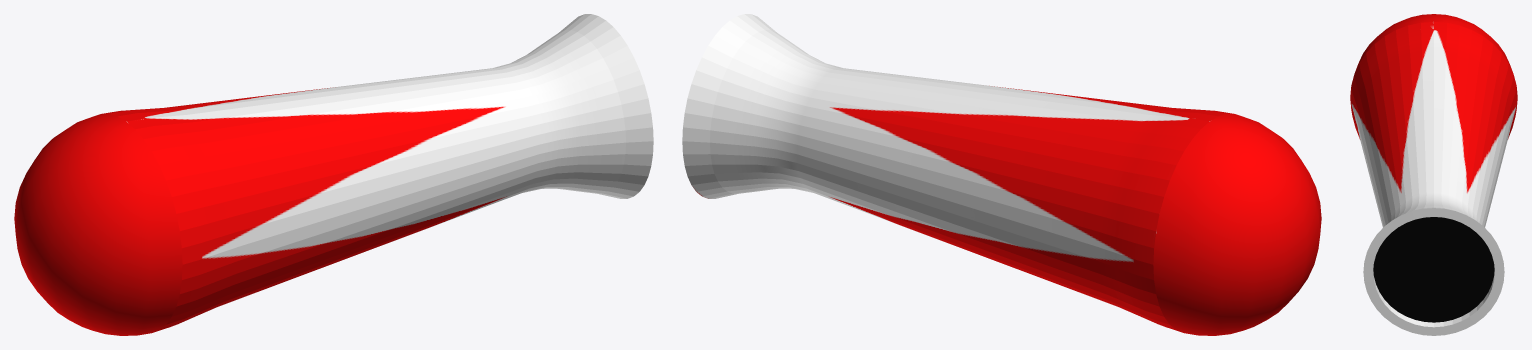
File: Cannon.fbx
The picture shows the model from 3 angles, left to right: view 1: azimuth 30°, elevation 25°; view 2: azimuth 150°, elevation 25°; view 3: azimuth 270°, elevation 25°; orthographic projection. The views are drawn at different scales.
Visible parts, largest first — view 1: pSphere1; view 2: pSphere1; view 3: pSphere1.
Boxes of the visible parts, x1=… form: pSphere1: x1=14, y1=14, x2=653, y2=335; pSphere1: x1=682, y1=14, x2=1321, y2=335; pSphere1: x1=1350, y1=14, x2=1517, y2=335.
Size of the model in its own units: 14.89 by 5.03 by 5.03.
